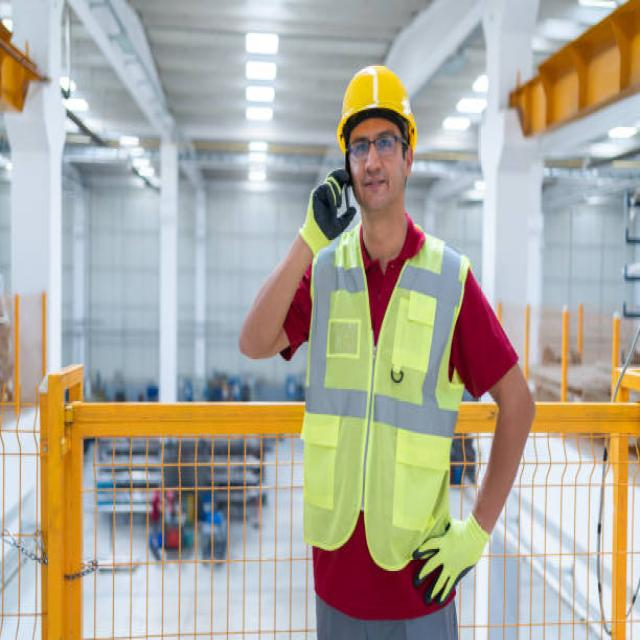Gloves: (411, 507, 496, 612), (297, 161, 357, 261)
Vest: (302, 224, 470, 573)
helmet: (336, 63, 420, 156)
person: (237, 65, 539, 640)
